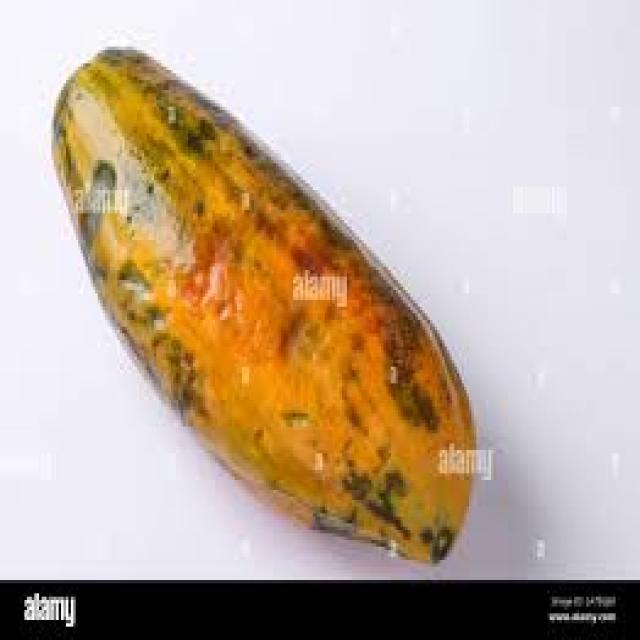Papaya: (58, 50, 487, 573)
